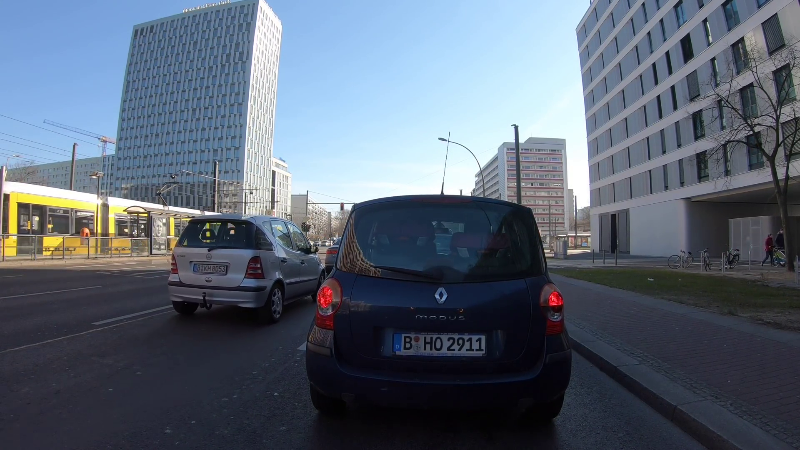Plate: (387, 330, 488, 359), (190, 261, 229, 277)
